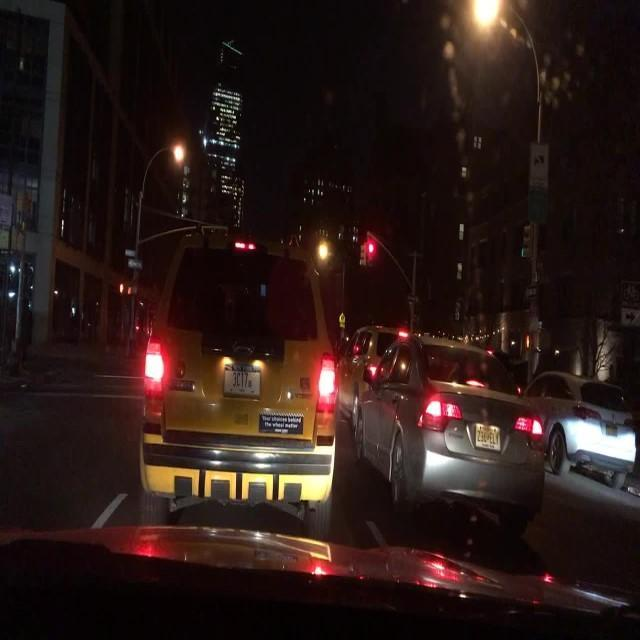normal: (356, 256, 640, 540), (113, 191, 337, 546)
